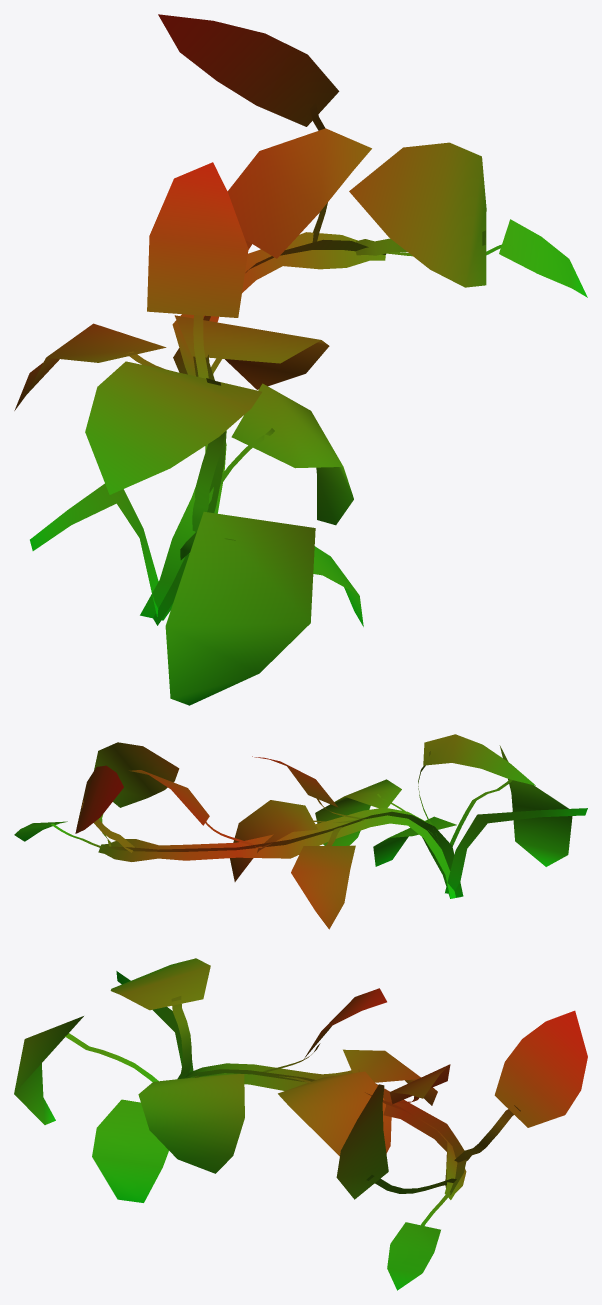
The model's file is Money Plant_LOD2_Var5_uchmfdyia.fbx.
The picture shows the model from 3 angles, top to bottom: view 1: azimuth 30°, elevation 25°; view 2: azimuth 150°, elevation 25°; view 3: azimuth 270°, elevation 25°; orthographic projection. The views are drawn at different scales.
Visible parts, largest first — view 1: _570c_Var5_LOD2; view 2: _570c_Var5_LOD2; view 3: _570c_Var5_LOD2.
Part boxes in pixels (x1,y1,x2,y2): _570c_Var5_LOD2: (14,14,587,705); _570c_Var5_LOD2: (14,734,587,929); _570c_Var5_LOD2: (14,958,587,1290).
Size of the model in its own units: 24.23 by 10.29 by 23.01.
